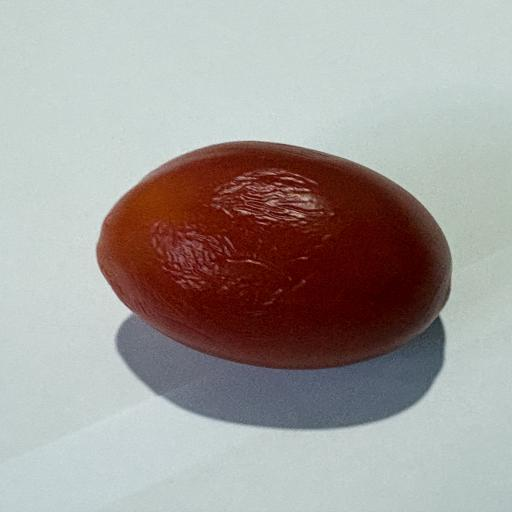spoiled: (97, 142, 451, 369)
